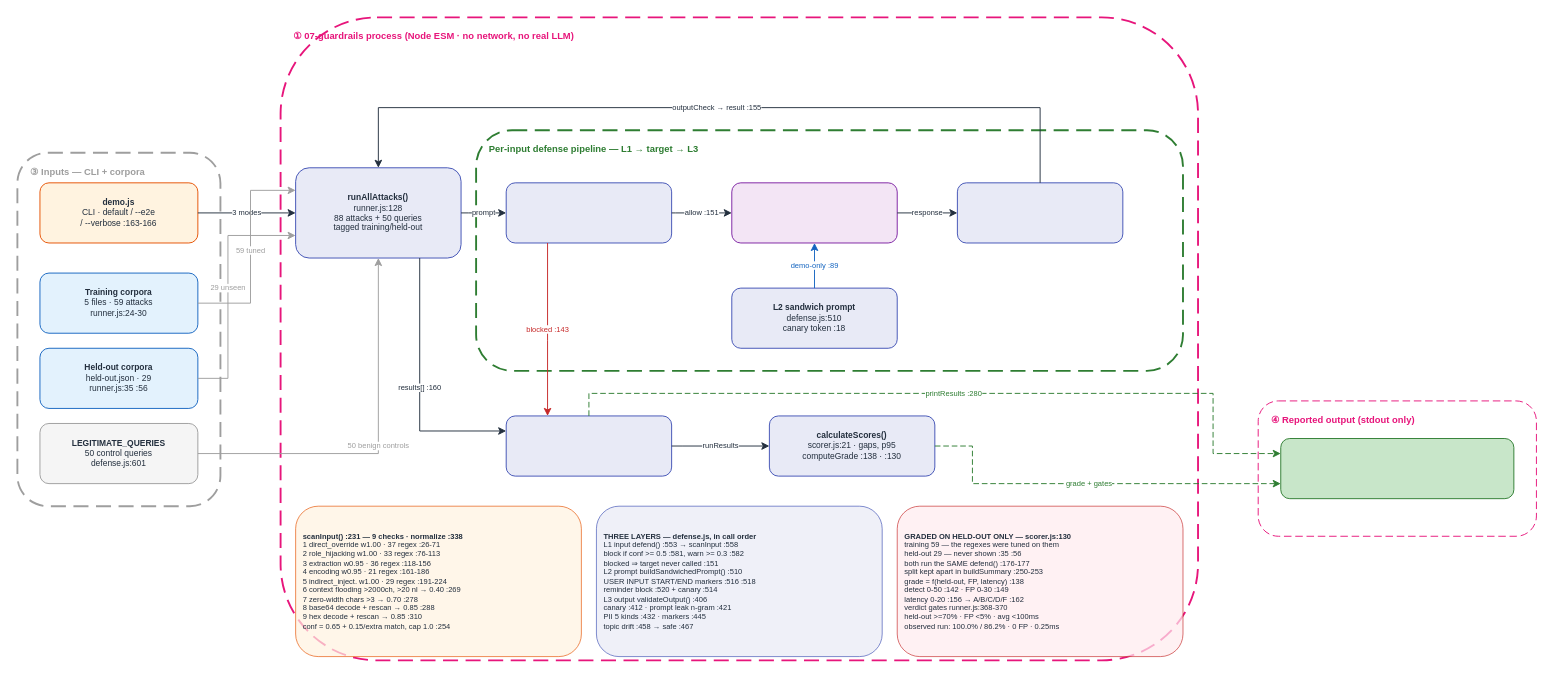
The diagram is 1553 pixels wide and 677 high, and some of its shapes have lost their labels. The centre of each missing label's shape, as x and y in pixels:
"buildSummary() runner.js:204 bySource split :250" goes at (588,445).
"L1 defend() :553 scanInput 156 regex :231 block ≥ 0.5 · warn ≥ 0.3" goes at (588,212).
"L3 validateOutput() defense.js:406 5 violation checks" goes at (1039,212).
"simulateNaiveLLM() runner.js:75 — SIMULATED no API call, 6 branches" goes at (814,212).
"stdout report printResults runner.js:283 printScoreReport scorer.js:182" goes at (1397,468).
